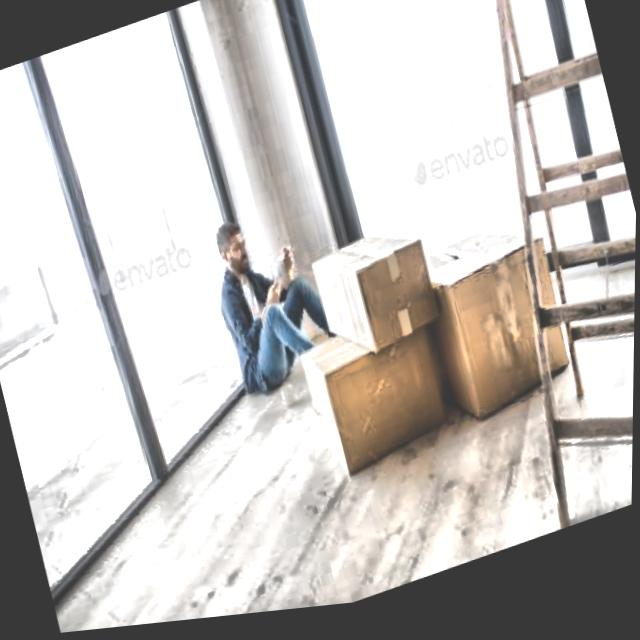Cardbox: (393, 213, 585, 446), (283, 287, 466, 503), (285, 204, 456, 394)
